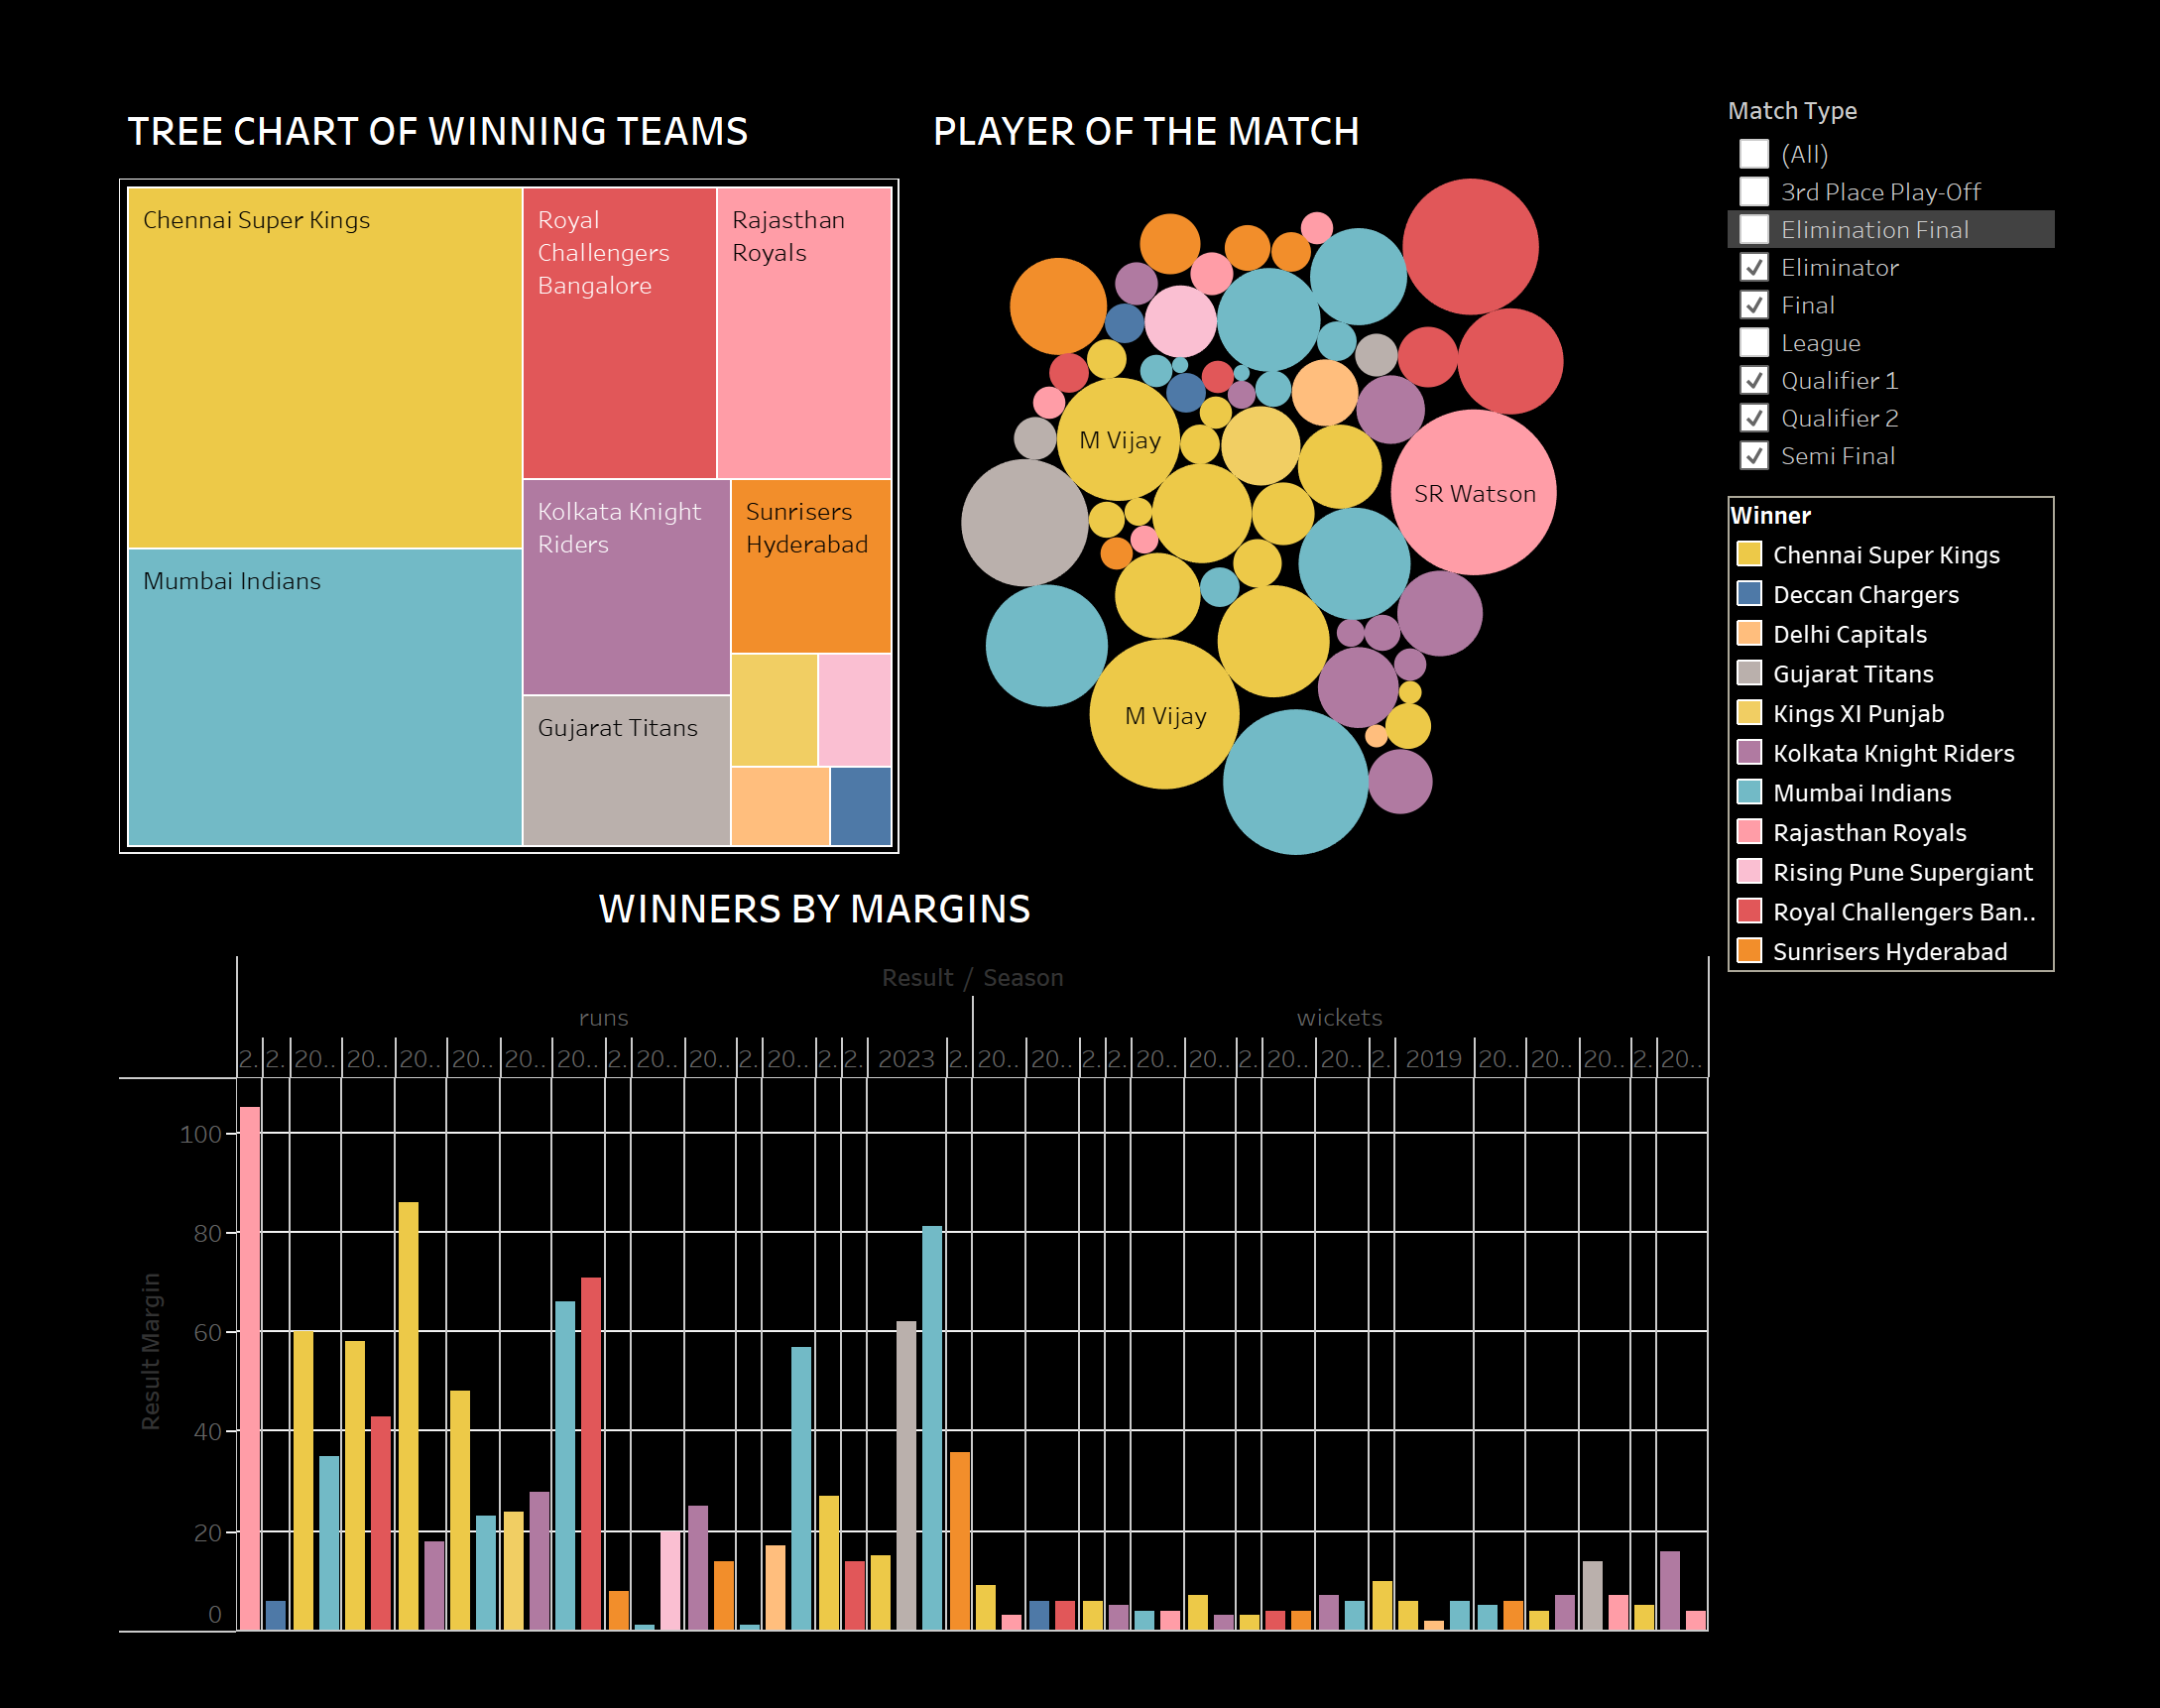

The dashboard page shown, as its layout file describes it:
{"tool":"tableau","page":{"name":"Dashboard 1","canvas":[1000,800],"ordinal":0},"visuals":[{"type":"worksheet","title":"WINNING TEAMS","mark":"Automatic","box":[8,8,405.5,392]},{"type":"worksheet","title":"POTM","mark":"Circle","box":[413.5,8,405.5,392]},{"type":"filter","title":"WINNING TEAMS","param":"[federated.0u91gb61vbafj319zctyz0wzh1fk].[none:match_type:nk]","box":[819,8,173,203]},{"type":"legend","title":"WINNING TEAMS","param":"[federated.0u91gb61vbafj319zctyz0wzh1fk].[none:winner:nk]","box":[819,211,173,168]},{"type":"worksheet","title":"Winners","mark":"Automatic","rows":["result_margin"],"cols":["result","season","winner"],"box":[8,400,811,392]}]}

Visuals, with their boxes in screenshot pixels (x1, y1, x2, y2), scaled from the page's 1000x800 canvas onto the 2160x1708 screenshot:
"WINNING TEAMS" worksheet: BBox(17, 17, 894, 854)
"POTM" worksheet (Circle marks): BBox(894, 17, 1769, 854)
"WINNING TEAMS" filter: BBox(1769, 17, 2143, 450)
"WINNING TEAMS" legend: BBox(1769, 450, 2143, 809)
"Winners" worksheet: BBox(17, 854, 1769, 1691)
